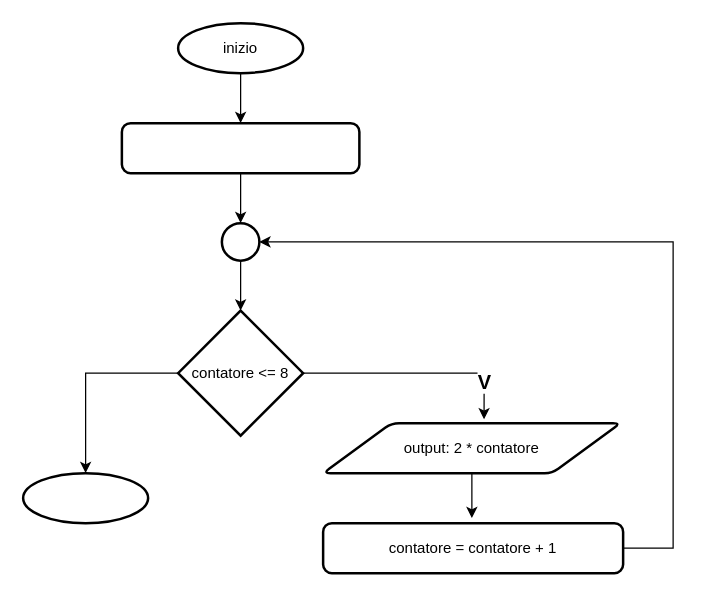
The diagram is 705 pixels wide and 595 high, and some of its shapes have lost their labels. The shapes that lost their labels are listed below. From the top down, each one's centre as x and y in pixels, then its label:
At [240,147]: "contatore = 2".
At [85,497]: "fine".
